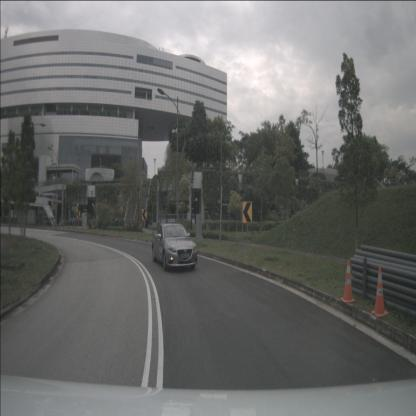movable_object-trafficcone: (370, 266, 388, 322), (340, 258, 356, 304)
vehicle-car: (152, 223, 197, 271)
